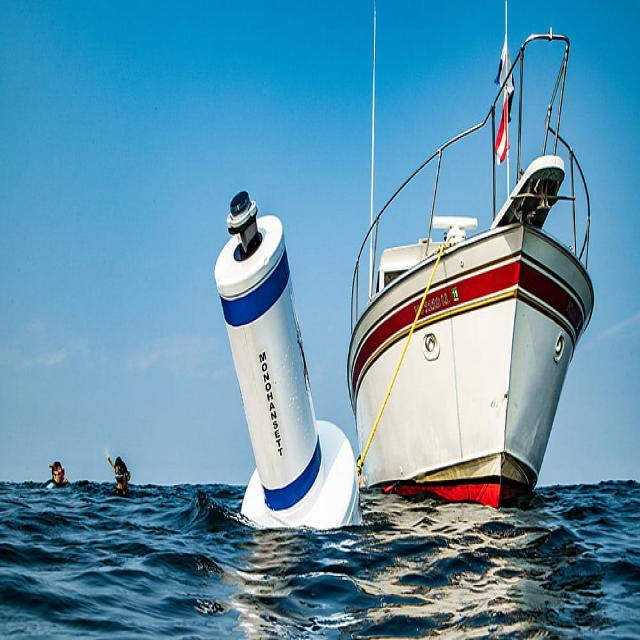ship: (340, 0, 608, 521)
